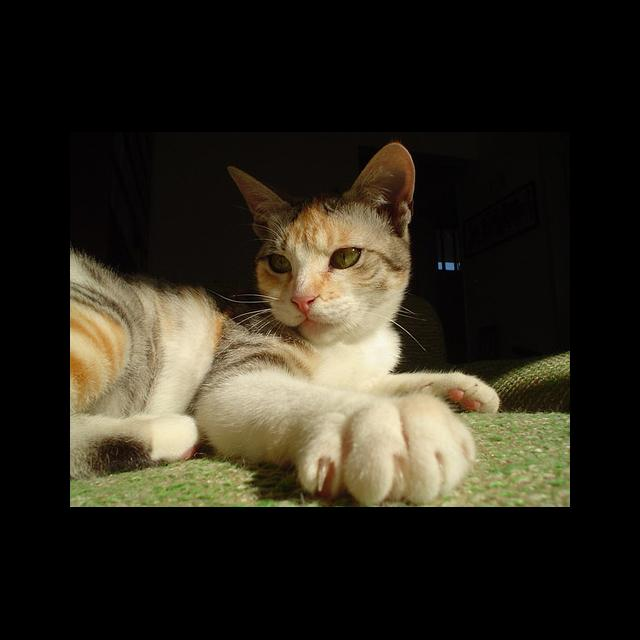animals: (229, 142, 405, 312)
